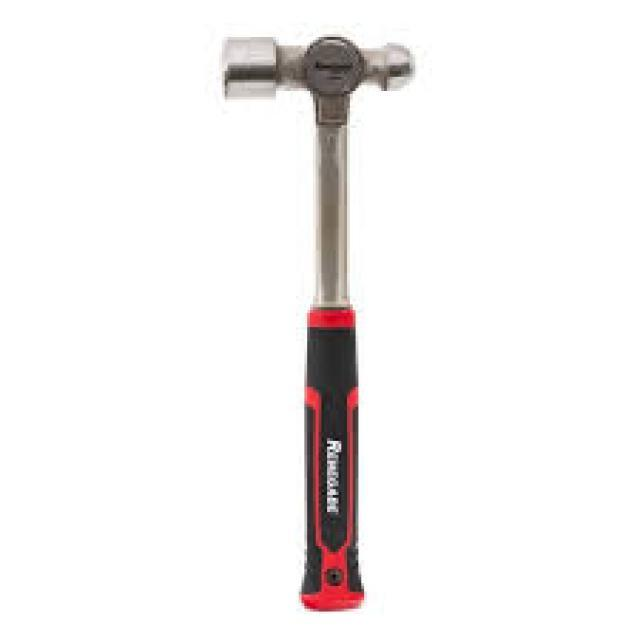hammer: (202, 23, 428, 620)
